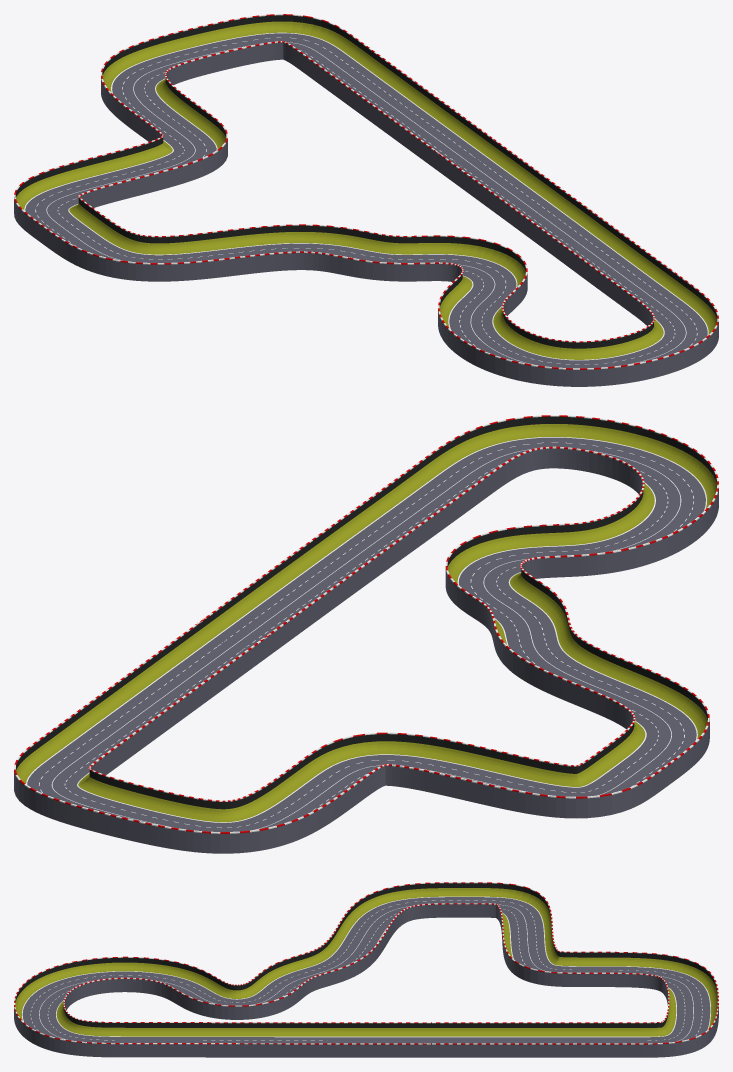
File: Track #15.fbx
The picture shows the model from 3 angles, top to bottom: view 1: azimuth 30°, elevation 25°; view 2: azimuth 150°, elevation 25°; view 3: azimuth 270°, elevation 25°; orthographic projection. The views are drawn at different scales.
Visible parts, largest first — view 1: Plane; view 2: Plane; view 3: Plane.
Part boxes in pixels (x1=…): Plane: x1=14, y1=14, x2=718, y2=386; Plane: x1=14, y1=415, x2=718, y2=853; Plane: x1=14, y1=882, x2=718, y2=1057.
Size of the model in its own units: 4610 by 185 by 8501.
